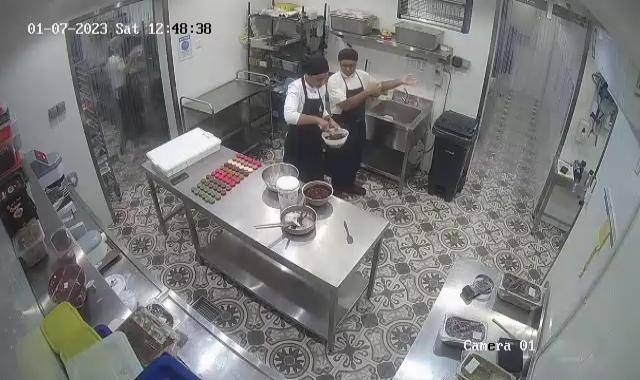no_hairnet: (299, 54, 329, 85), (337, 48, 359, 72)
